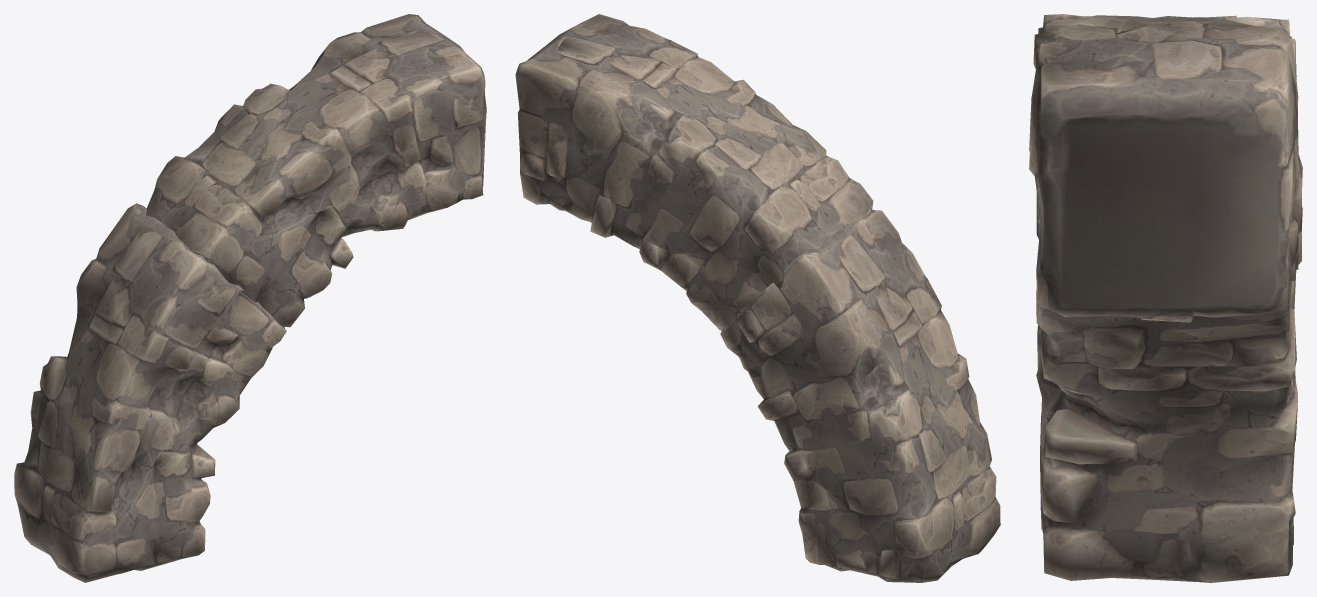
Rendered from Pillar_Bent_Light.fbx.
3 renders of one model, left to right at view 1: azimuth 30°, elevation 25°; view 2: azimuth 150°, elevation 25°; view 3: azimuth 270°, elevation 25°, orthographic. The views are drawn at different scales.
Parts seen in each view (by area): view 1: Dn_HL_UND_Pillars_Bent_01.001; view 2: Dn_HL_UND_Pillars_Bent_01.001; view 3: Dn_HL_UND_Pillars_Bent_01.001.
Part boxes in pixels (left/top/right/bottom): Dn_HL_UND_Pillars_Bent_01.001: left=14, top=14, right=486, bottom=582; Dn_HL_UND_Pillars_Bent_01.001: left=515, top=14, right=1000, bottom=582; Dn_HL_UND_Pillars_Bent_01.001: left=1029, top=14, right=1302, bottom=582.
Bounding box in the file's own units: 10491 × 10462 × 3517.
